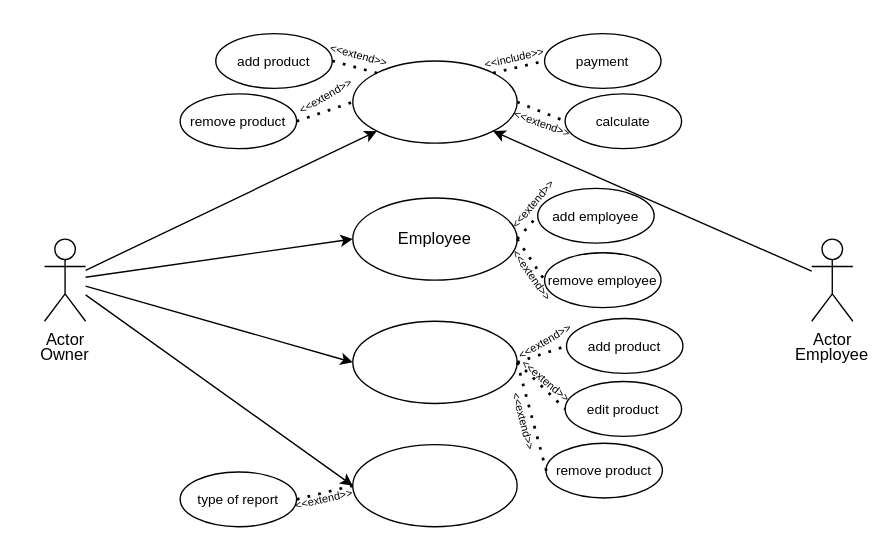
This 896x551 diagram has some shape labels left out. Here are the shapes that lost their labels. From the top down, the centre of each, then its label:
At (x=434, y=101): "Transaction".
At (x=434, y=361): "Product".
At (x=434, y=485): "Report".
